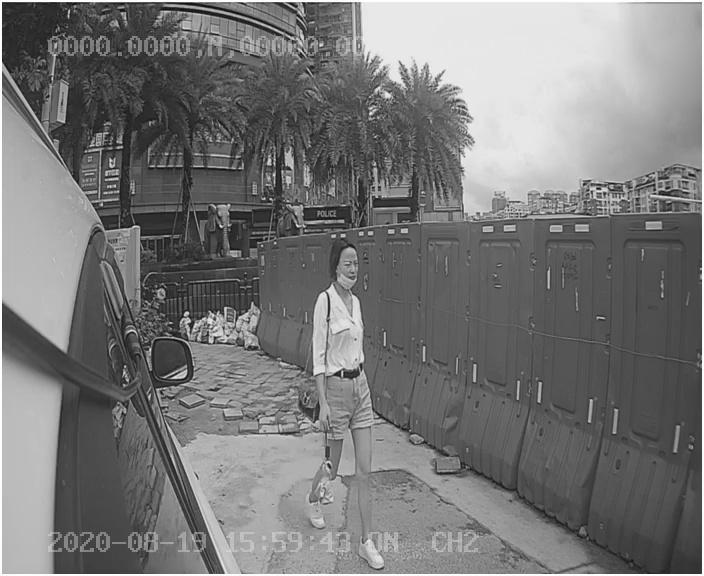person: (294, 232, 395, 530)
